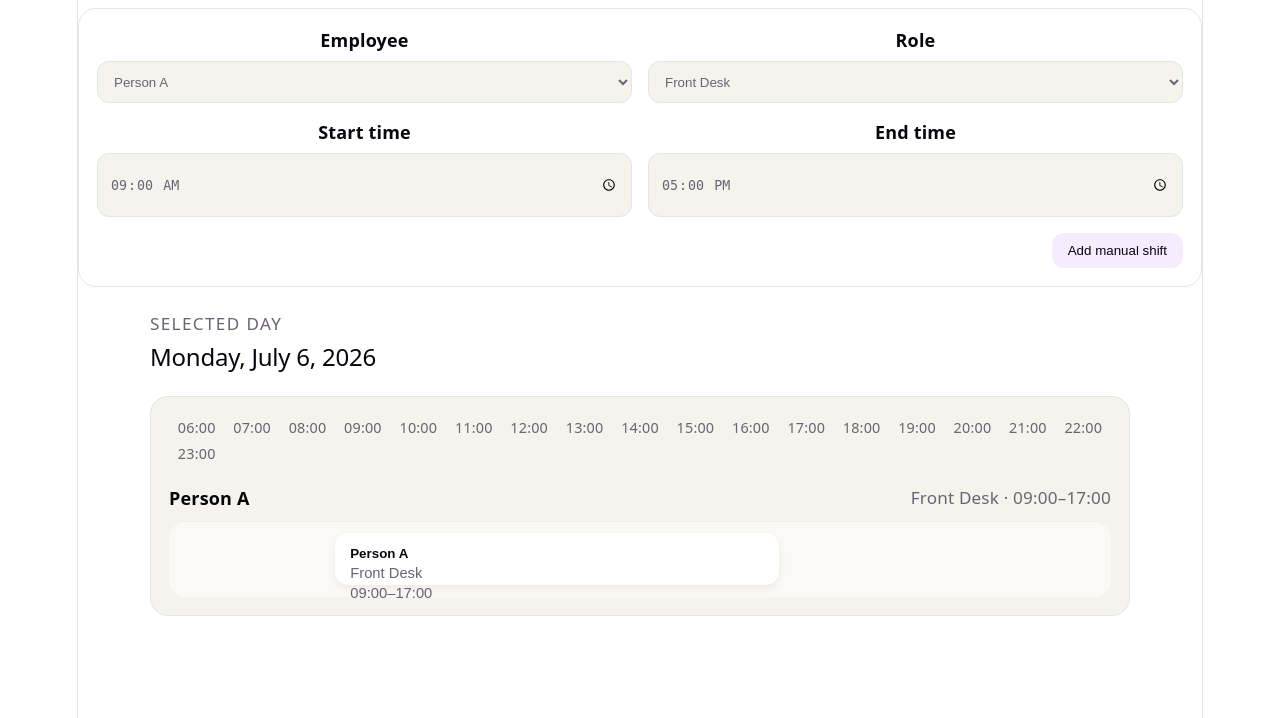
Test case: ScheduleDatePage › shows fixed-rule exception actions for a fixed shift
What coordinates should you click on to do the following:
click the button with aria-label "Actions for Person A shift from 09:00 to 17:00"
I would click on:
 (379, 553)
Its box is [335,533,778,585].
(page scrolled)
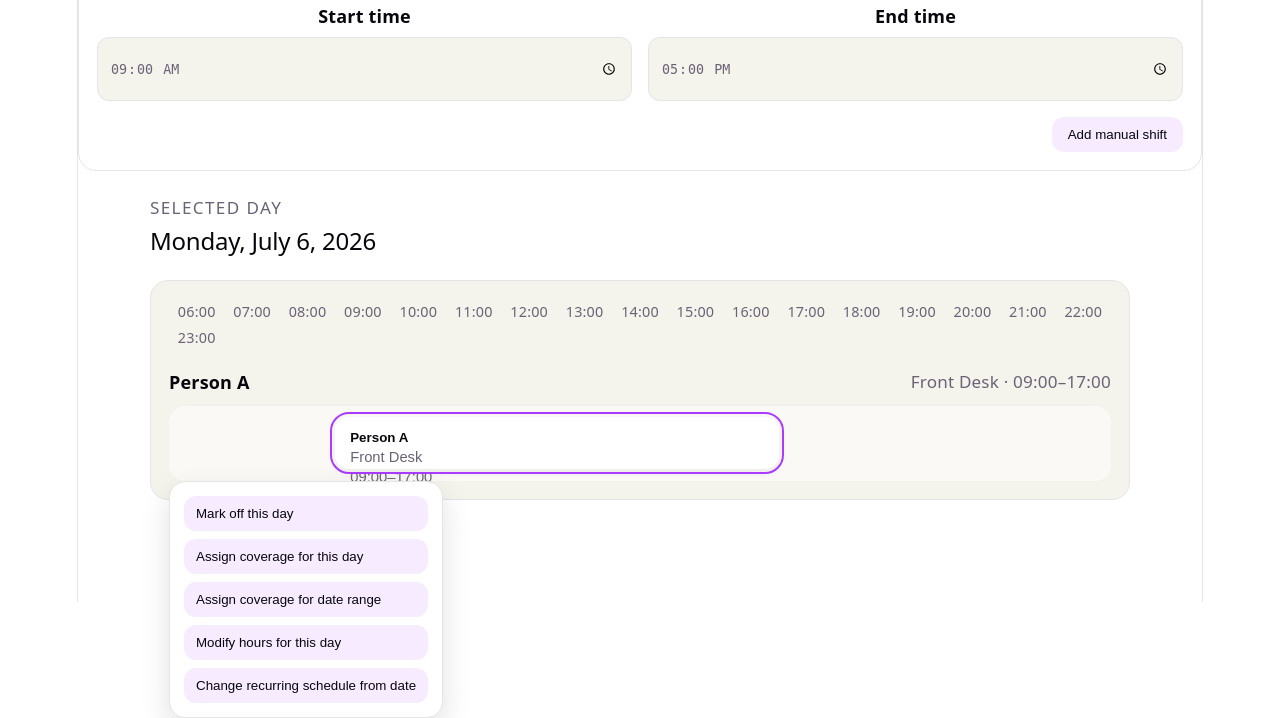
Expected: the menu item "Mark off this day" is shown, [184,496,428,531]
Expected: the menu item "Assign coverage for this day" is shown, [184,539,428,574]
Expected: the menu item "Assign coverage for date range" is shown, [184,582,428,617]
